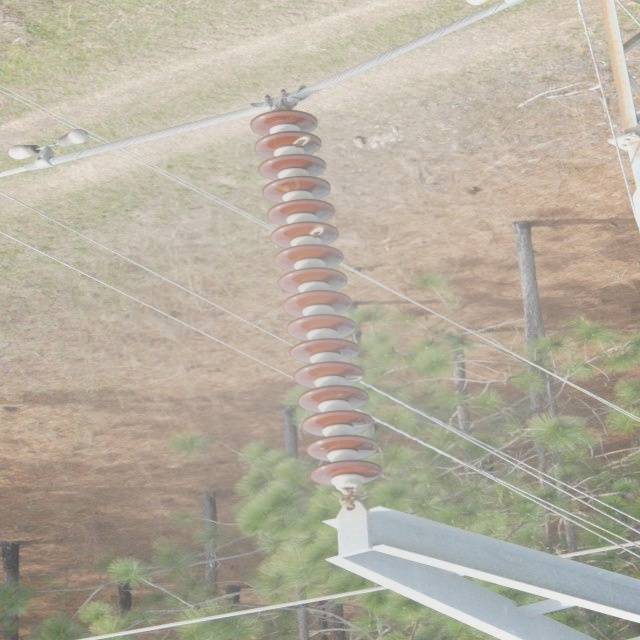insulator: (247, 110, 386, 484)
